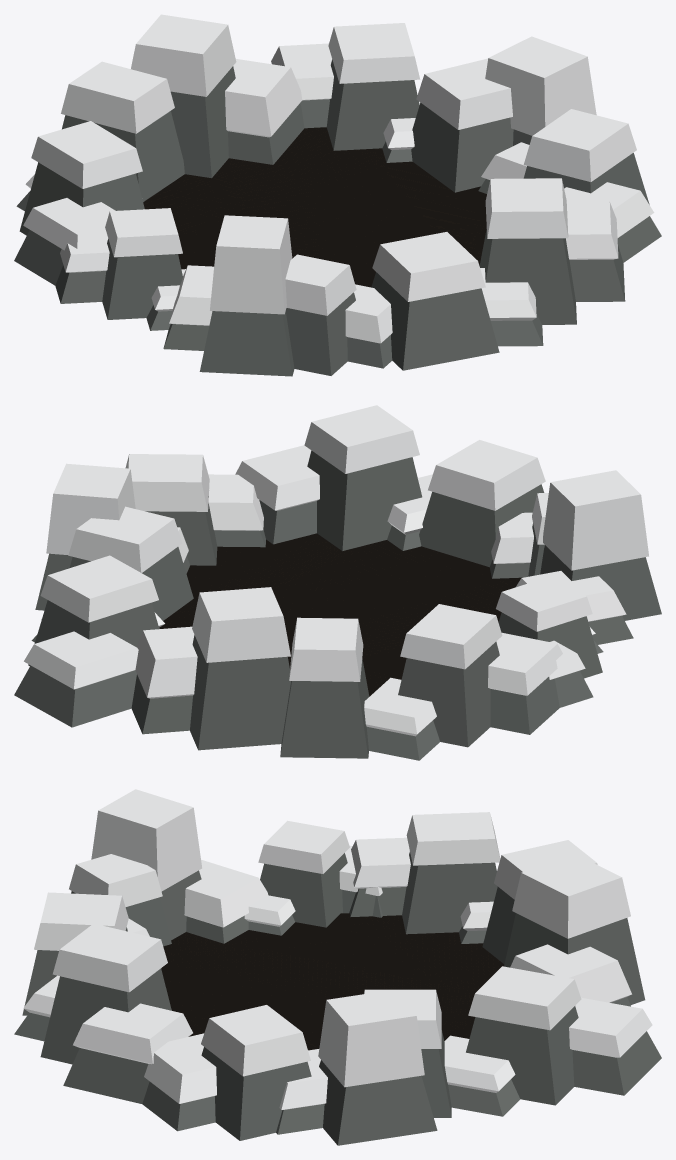
Rendered from Mesh_Campfire_Empty.glb.
The picture shows the model from 3 angles, top to bottom: view 1: azimuth 30°, elevation 25°; view 2: azimuth 150°, elevation 25°; view 3: azimuth 270°, elevation 25°; orthographic projection. The views are drawn at different scales.
Visible parts, largest first — view 1: Mesh_Campfire_Empty; view 2: Mesh_Campfire_Empty; view 3: Mesh_Campfire_Empty.
Boxes of the visible parts, left/top/right/bottom form: Mesh_Campfire_Empty: left=14, top=14, right=661, bottom=376; Mesh_Campfire_Empty: left=14, top=405, right=661, bottom=760; Mesh_Campfire_Empty: left=14, top=789, right=661, bottom=1145.
Size of the model in its own units: 0.875 by 0.236 by 0.9054.
1 material, 1 textured.
